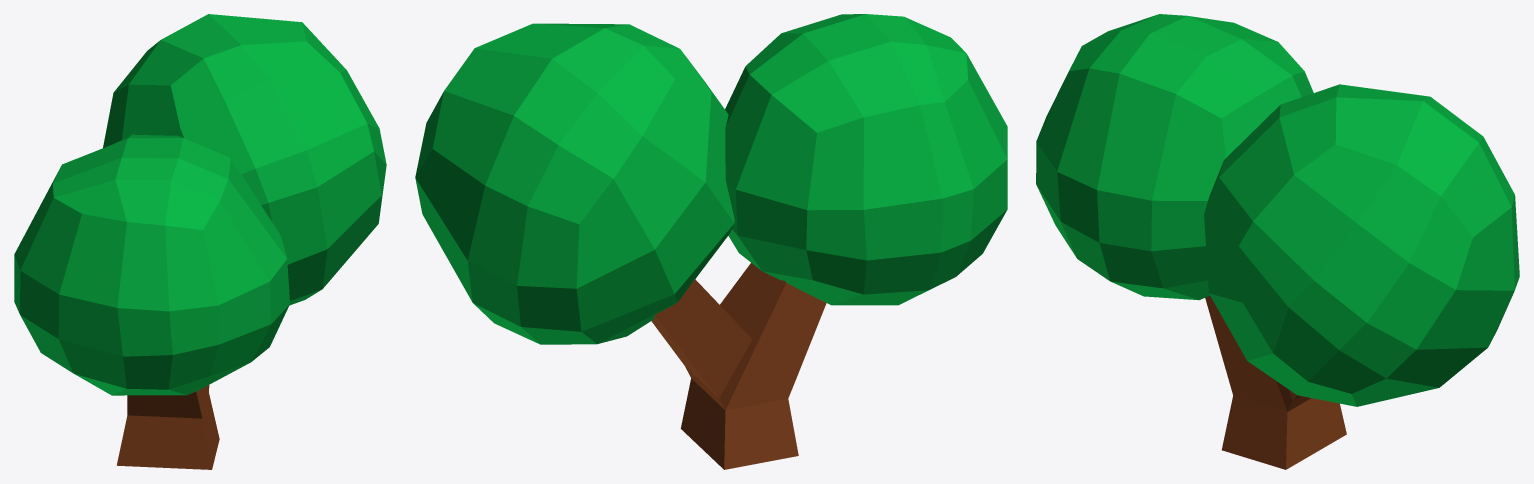
Rendered from tree.glb.
The picture shows the model from 3 angles, left to right: view 1: azimuth 30°, elevation 25°; view 2: azimuth 150°, elevation 25°; view 3: azimuth 270°, elevation 25°; orthographic projection. The views are drawn at different scales.
Visible parts, largest first — view 1: tree_Mesh; view 2: tree_Mesh; view 3: tree_Mesh.
Boxes of the visible parts, x1,y1,x2,y2 form: tree_Mesh: (14,14,386,469); tree_Mesh: (415,14,1007,469); tree_Mesh: (1036,14,1519,469).
Bounding box in the file's own units: 2 × 1.68 × 1.86.
